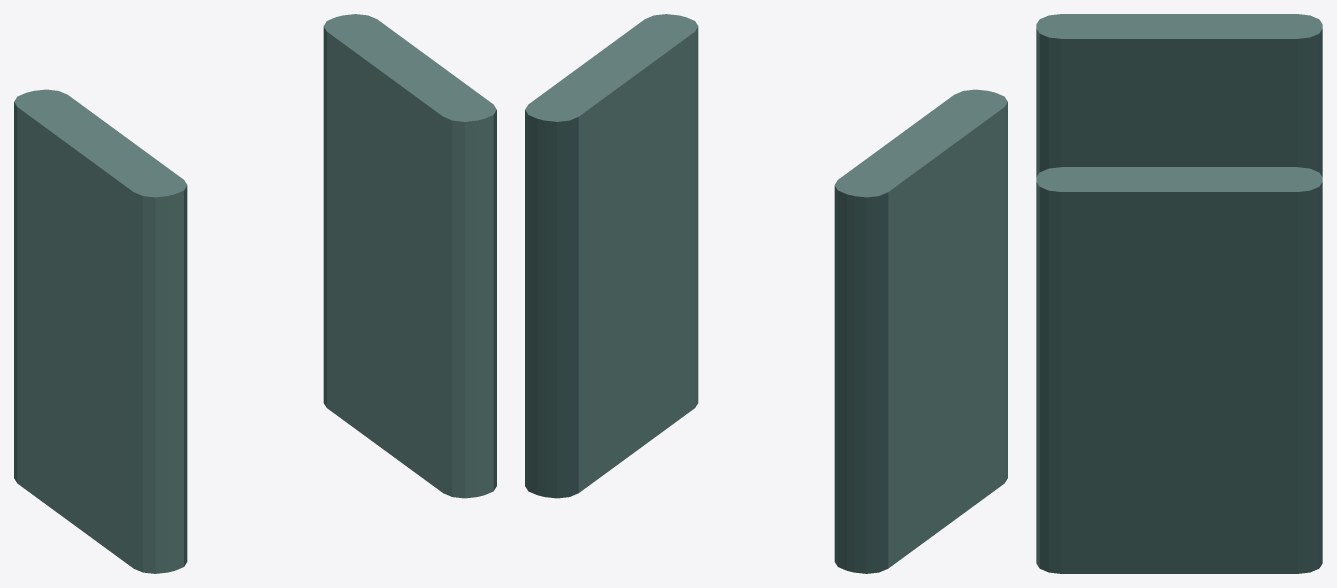
The model's file is Door_Jamb.gltf.
3 renders of one model, left to right at view 1: azimuth 30°, elevation 25°; view 2: azimuth 150°, elevation 25°; view 3: azimuth 270°, elevation 25°, orthographic.
Parts seen in each view (by area): view 1: Door_Jamb_baked; view 2: Door_Jamb_baked; view 3: Door_Jamb_baked.
Boxes of the visible parts, x1,y1,x2,y2 form: Door_Jamb_baked: (14, 14, 496, 573); Door_Jamb_baked: (525, 14, 1007, 573); Door_Jamb_baked: (1036, 14, 1322, 573).
Bounding box in the file's own units: 1 × 1 × 0.68.
